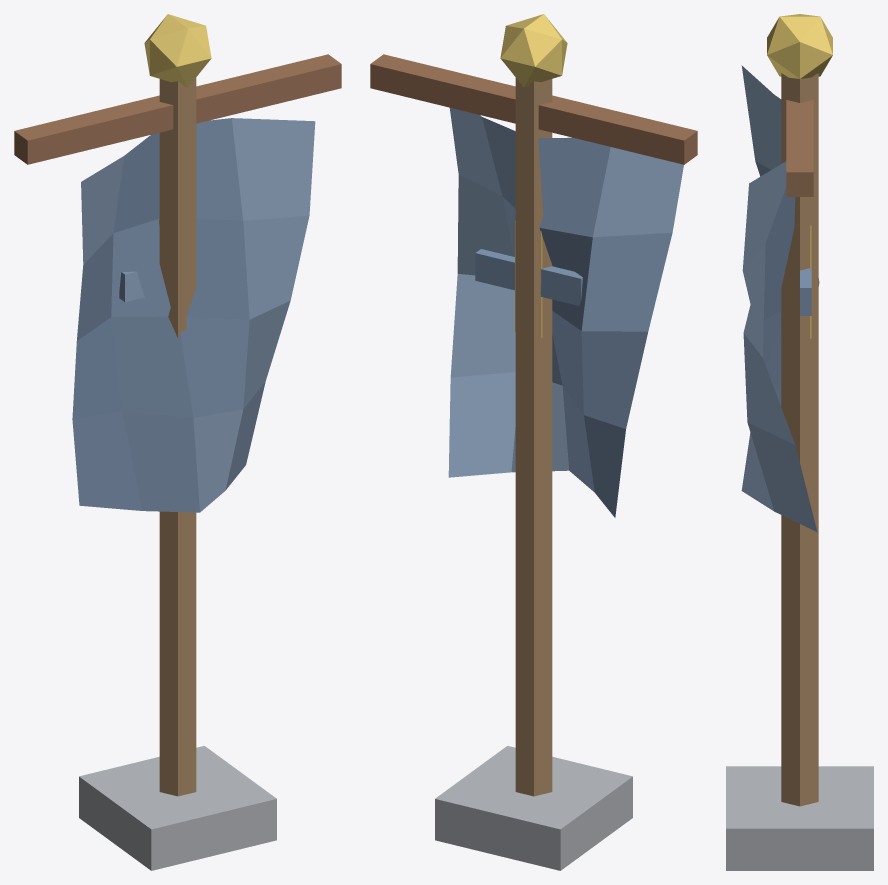
File: animprop_banner_06.glb
3 renders of one model, left to right at view 1: azimuth 30°, elevation 25°; view 2: azimuth 150°, elevation 25°; view 3: azimuth 270°, elevation 25°, orthographic.
Parts seen in each view (by area): view 1: animprop; view 2: animprop; view 3: animprop.
Part boxes in pixels (<box>): animprop: <box>14,14,341,870</box>; animprop: <box>370,14,697,870</box>; animprop: <box>726,14,873,870</box>.
Bounding box in the file's own units: 0.95 × 2.34 × 0.38.
